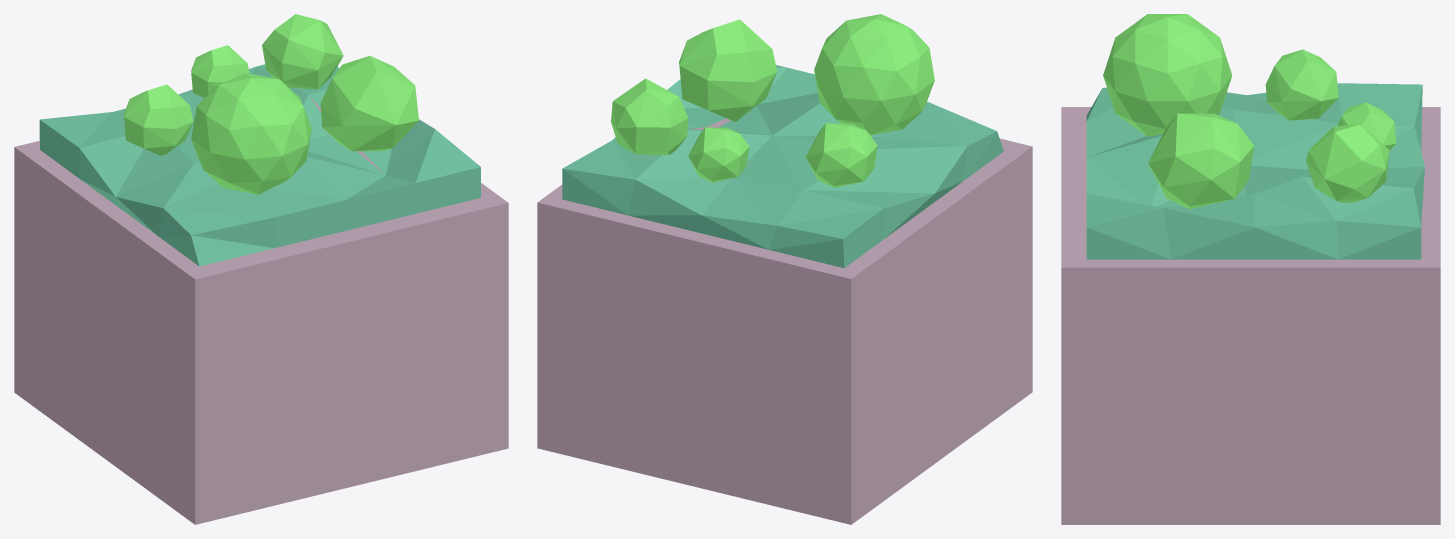
File: block_3.fbx
The picture shows the model from 3 angles, left to right: view 1: azimuth 30°, elevation 25°; view 2: azimuth 150°, elevation 25°; view 3: azimuth 270°, elevation 25°; orthographic projection. The views are drawn at different scales.
Parts seen in each view (by area): view 1: block_3; view 2: block_3; view 3: block_3.
Part boxes in pixels (x1,y1,x2,y2): block_3: (14,14,508,524); block_3: (537,14,1032,524); block_3: (1061,14,1440,524).
Size of the model in its own units: 200 by 234 by 200.
